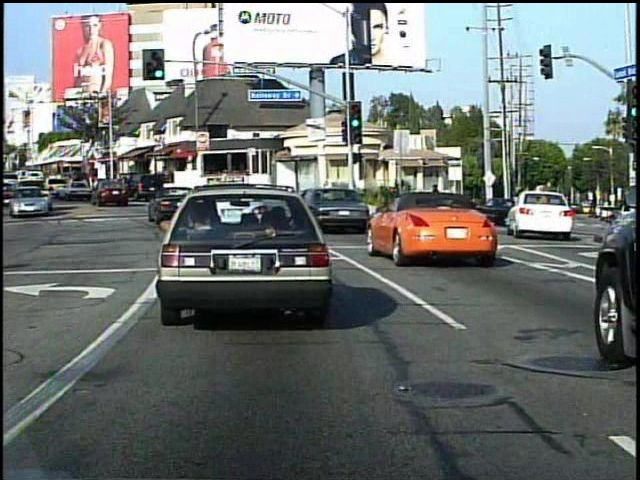person: (427, 182, 443, 220)
